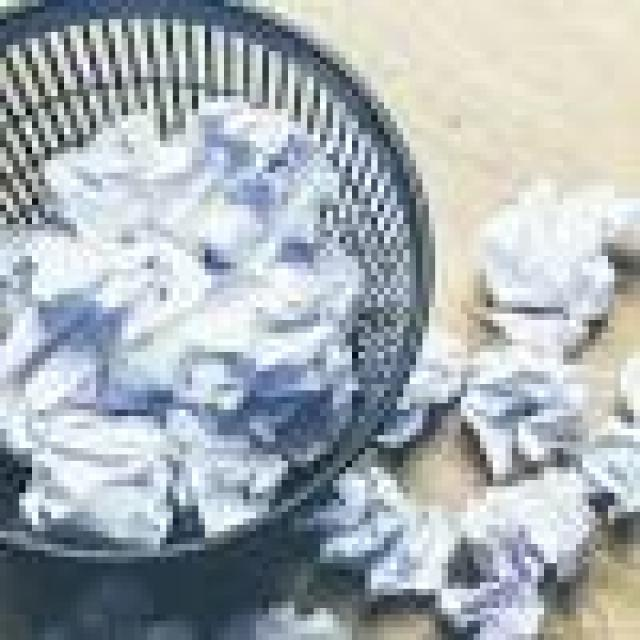Paper -Biodegradable-: (0, 99, 372, 548), (303, 344, 640, 640), (482, 190, 640, 355)
